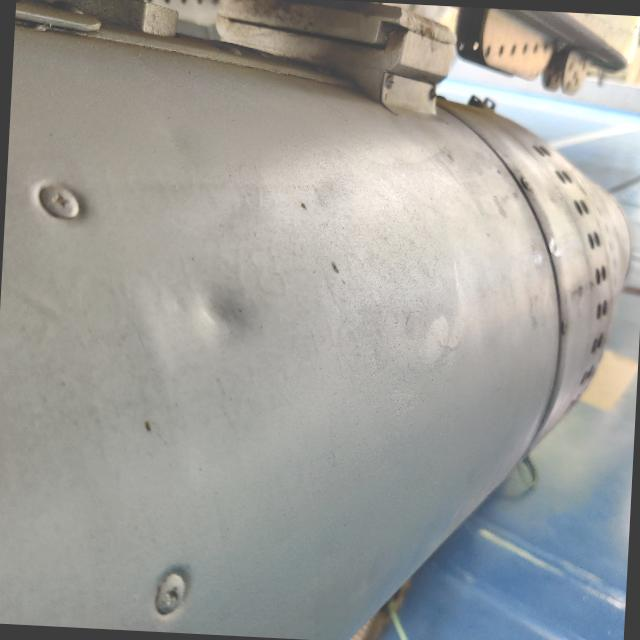dent: (166, 254, 290, 374)
